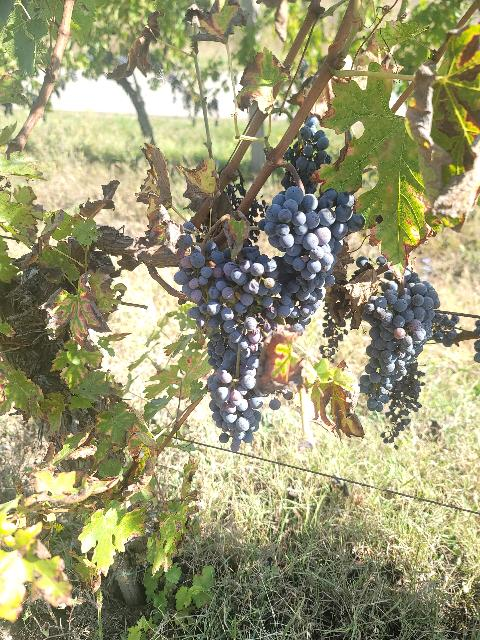grapes: (359, 269, 438, 411), (260, 185, 365, 280), (174, 232, 226, 318), (208, 375, 264, 451), (281, 115, 331, 194), (278, 265, 335, 331), (381, 361, 425, 444), (224, 246, 281, 296)
